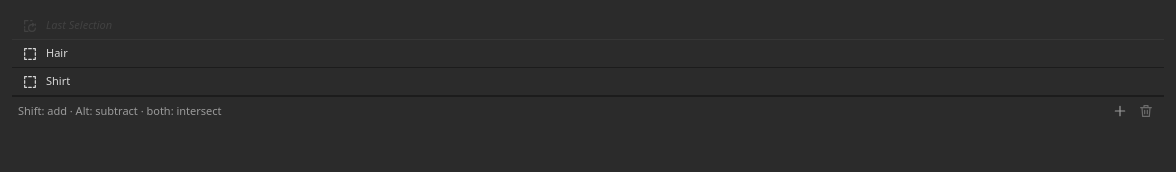
it: a press anywhere but on a row deselects it (the image, another panel); the trash keeps it
Click the option "Shirt" at (30, 82), box [12,68,1164,96]
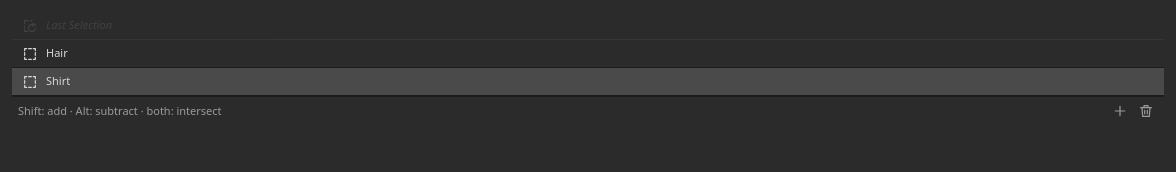
// The trash acts on the row clicked last.
Click the button named "Delete Saved Selection" at (1146, 111), box [1134,99,1158,123]
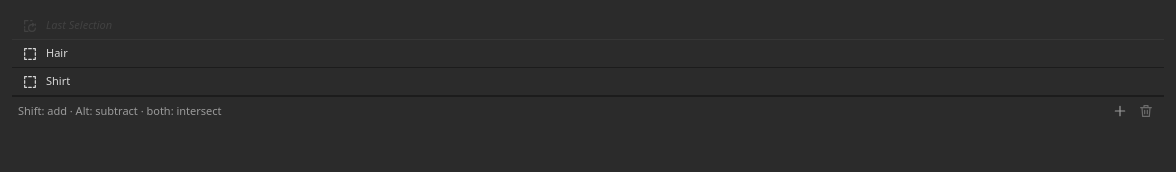
Click the option "Hair" at (30, 54), box [12,40,1164,68]
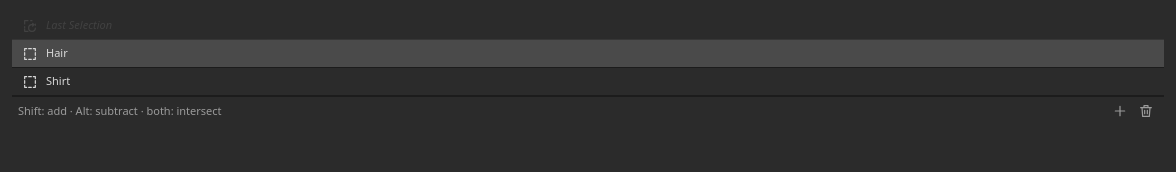
Press the mouse on the element that starts with "Last Selection" at (588, 68), box [12,12,1164,125]
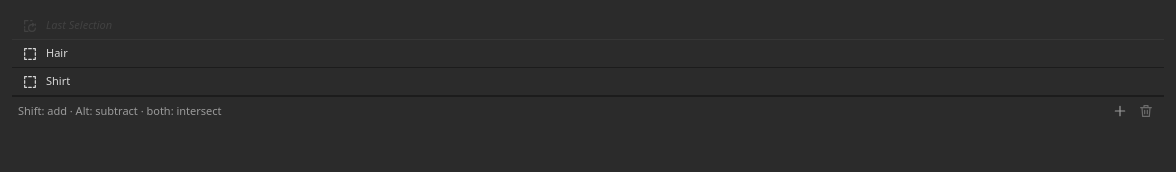
Expected: the button named "Delete Saved Selection" is disabled, [1134,99,1158,123]
